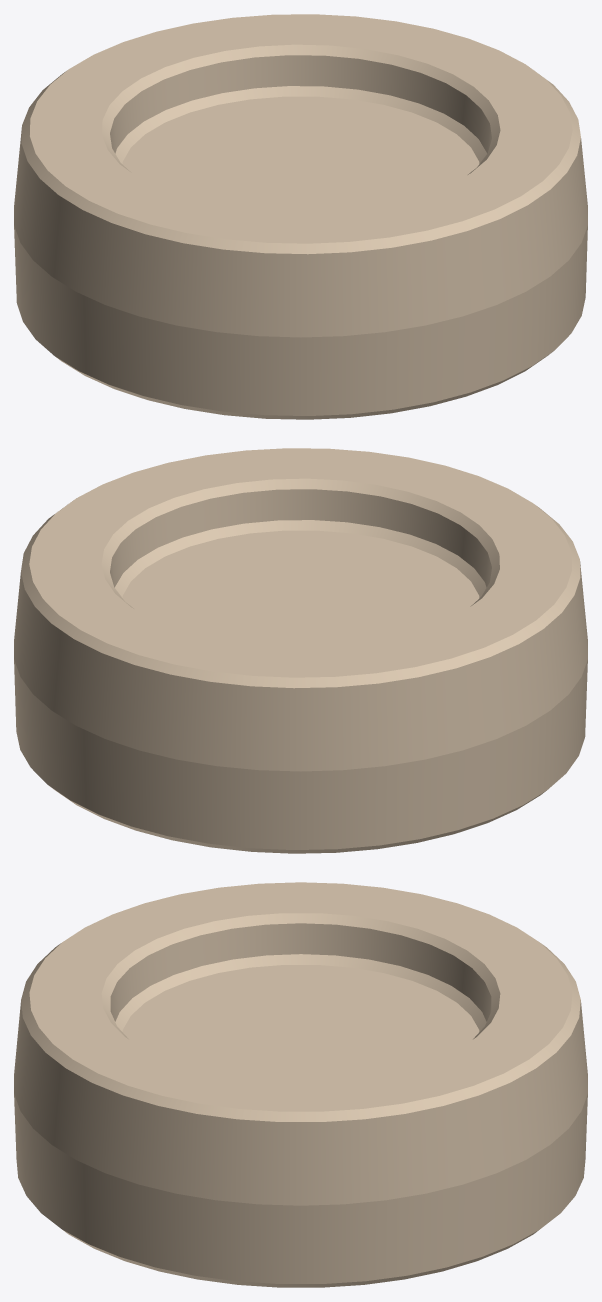
Rendered from disc_white.glb.
3 views of the same model, one above another, from view 1: azimuth 30°, elevation 25°; view 2: azimuth 150°, elevation 25°; view 3: azimuth 270°, elevation 25° (orthographic).
Visible parts, largest first — view 1: Node1; view 2: Node1; view 3: Node1.
Part boxes in pixels (x1,y1,x2,y2): Node1: [14, 14, 587, 419]; Node1: [14, 448, 587, 853]; Node1: [14, 882, 587, 1287].
Bounding box in the file's own units: 0.75 × 0.25 × 0.7479.
